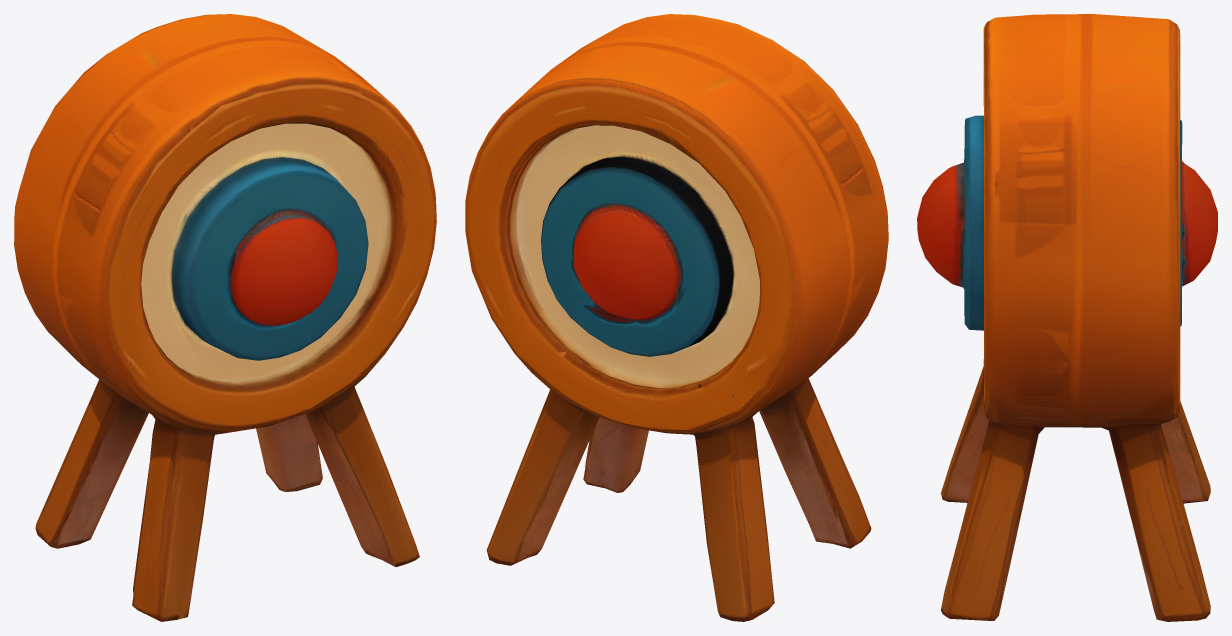
Rendered from Target.fbx.
3 views of the same model, side by side, from view 1: azimuth 30°, elevation 25°; view 2: azimuth 150°, elevation 25°; view 3: azimuth 270°, elevation 25° (orthographic). The views are drawn at different scales.
Parts seen in each view (by area): view 1: Target; view 2: Target; view 3: Target.
Part boxes in pixels (x1,y1,x2,y2): Target: (14,14,436,621); Target: (465,14,888,621); Target: (917,14,1217,621).
Bounding box in the file's own units: 132 × 182 × 95.2.
